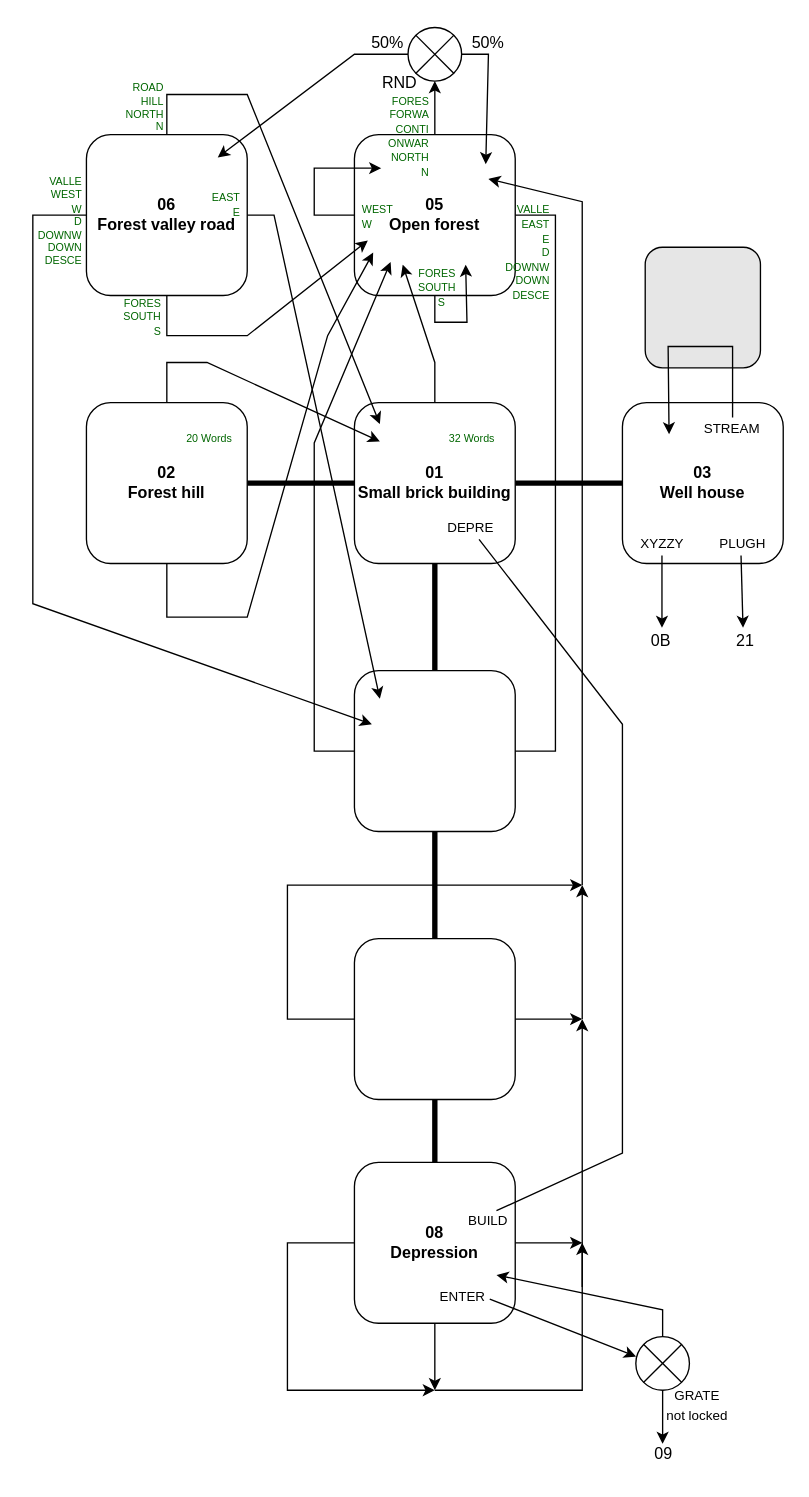
Image size: 809x1497. Some labels were removed from this diagram. The shapes that lost their labels are listed below. From the top down, each one's centre as x and y in pixels, then its label:
At point 702,307: "4F Sewer pipes".
At point 434,750: "04 Valley in forest".
At point 434,1018: "07 Two-inch slit".
